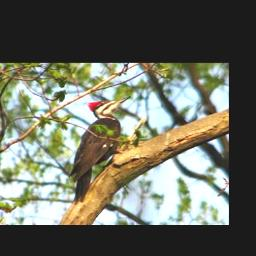Woodpecker: (67, 94, 135, 205)
